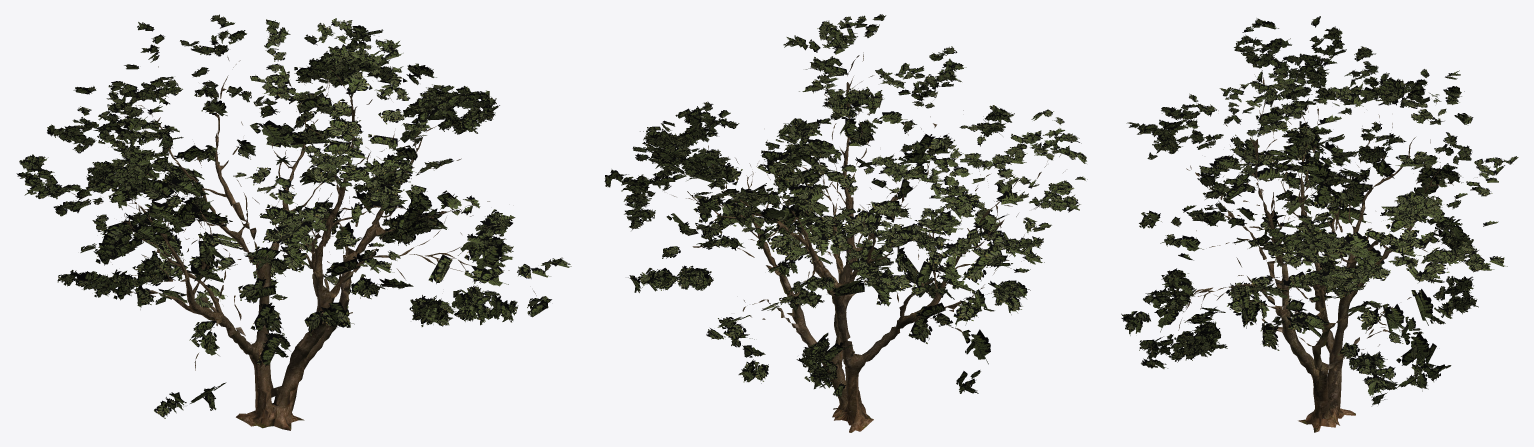
File: jacaranda.glb
The picture shows the model from 3 angles, left to right: view 1: azimuth 30°, elevation 25°; view 2: azimuth 150°, elevation 25°; view 3: azimuth 270°, elevation 25°; orthographic projection. The views are drawn at different scales.
Parts seen in each view (by area): view 1: jacaranda; view 2: jacaranda; view 3: jacaranda.
Part boxes in pixels (x1,y1,x2,y2): jacaranda: [16, 14, 571, 430]; jacaranda: [604, 14, 1087, 432]; jacaranda: [1121, 16, 1518, 432].
Size of the model in its own units: 23.91 by 19.23 by 18.94.
3 materials, 3 textured.
